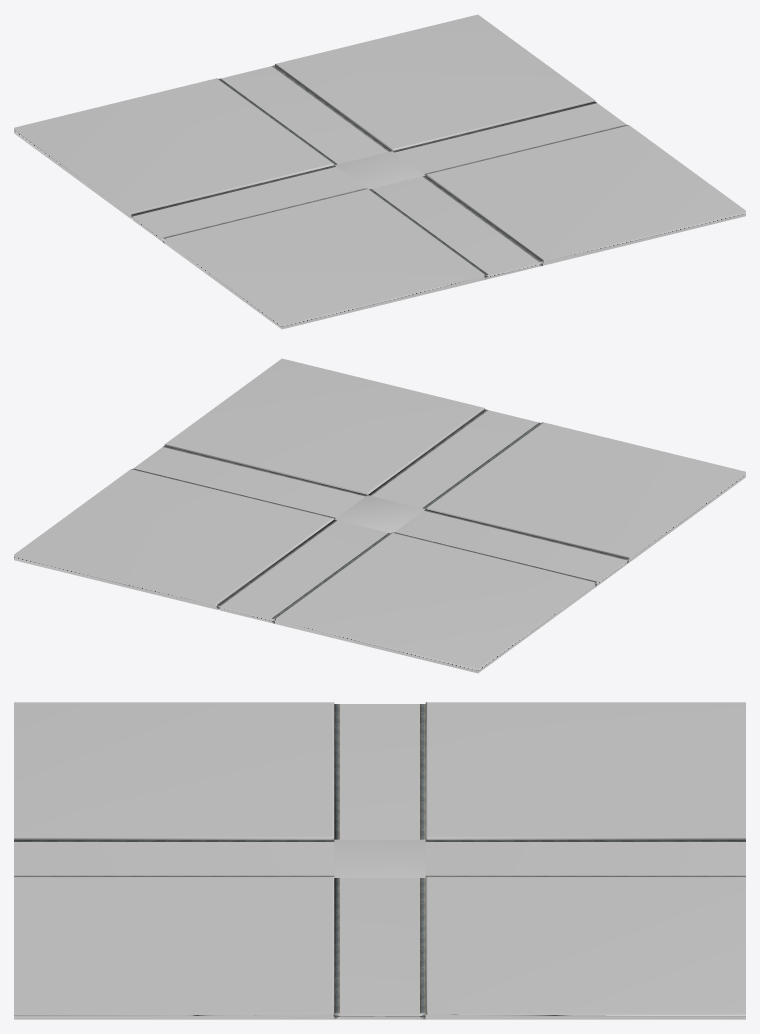
Rendered from road_crossing.fbx.
3 renders of one model, top to bottom at view 1: azimuth 30°, elevation 25°; view 2: azimuth 150°, elevation 25°; view 3: azimuth 270°, elevation 25°, orthographic. The views are drawn at different scales.
Visible parts, largest first — view 1: Mesh; view 2: Mesh; view 3: Mesh.
Part boxes in pixels (bbox=[...]): Mesh: bbox=[14, 14, 745, 329]; Mesh: bbox=[14, 358, 745, 673]; Mesh: bbox=[14, 702, 745, 1019].
Bounding box in the file's own units: 5485 × 64 × 5485.
